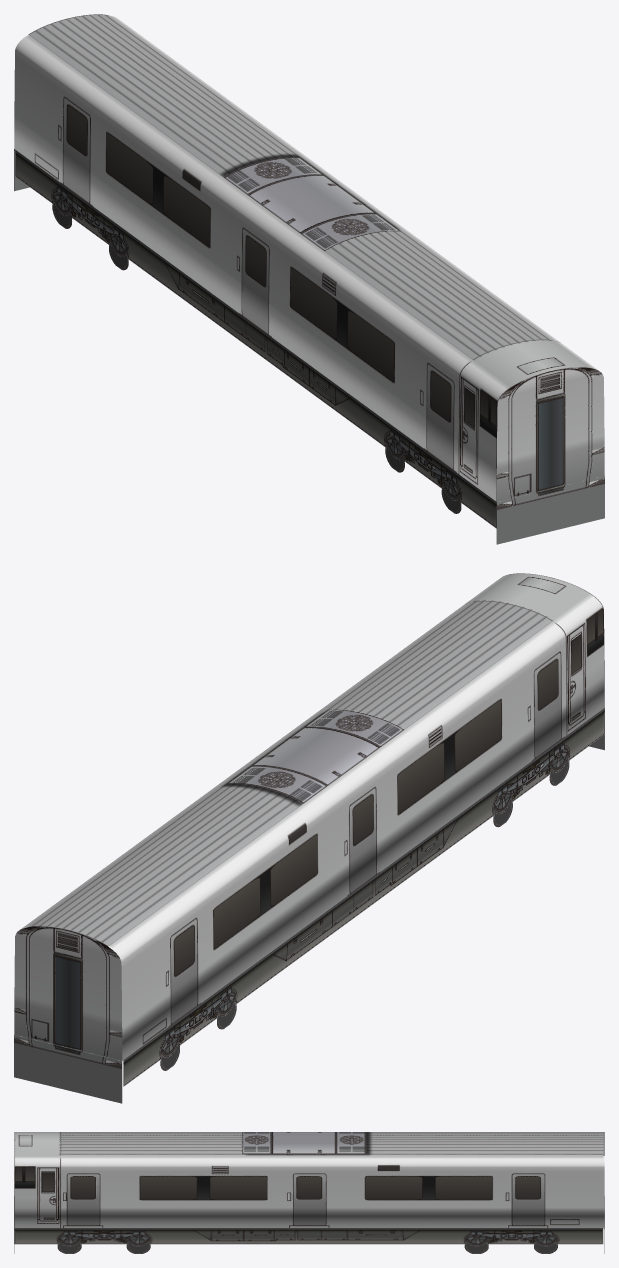
File: car2.glb
3 views of the same model, one above another, from view 1: azimuth 30°, elevation 25°; view 2: azimuth 150°, elevation 25°; view 3: azimuth 270°, elevation 25° (orthographic). The views are drawn at different scales.
Parts seen in each view (by area): view 1: jr-hokkaido-735-car2; view 2: jr-hokkaido-735-car2; view 3: jr-hokkaido-735-car2.
Part boxes in pixels (bbox=[...]): jr-hokkaido-735-car2: bbox=[14, 14, 604, 544]; jr-hokkaido-735-car2: bbox=[14, 573, 604, 1103]; jr-hokkaido-735-car2: bbox=[14, 1132, 604, 1253].
Size of the model in its own units: 2.8 by 3.96 by 21.7.
9 materials, 8 textured.
